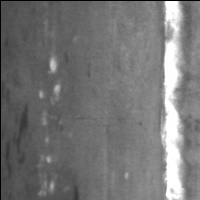inclusion: (1, 91, 31, 185)
scratches: (158, 1, 190, 200), (36, 57, 62, 194)
